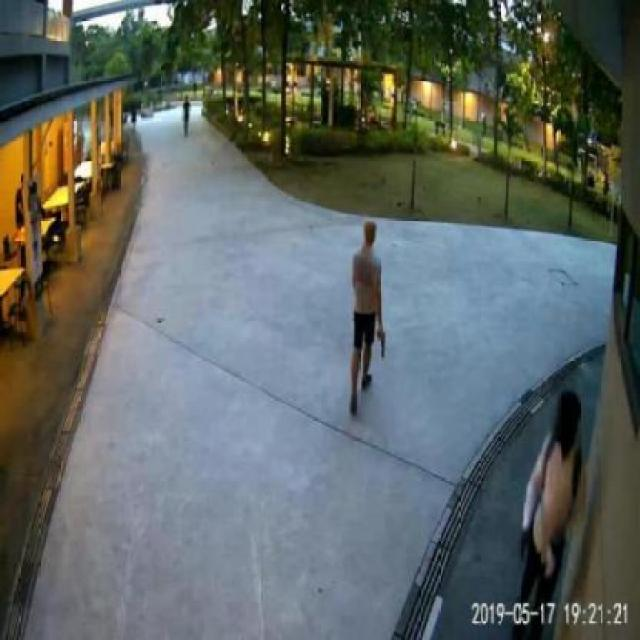gun: (374, 326, 384, 356)
